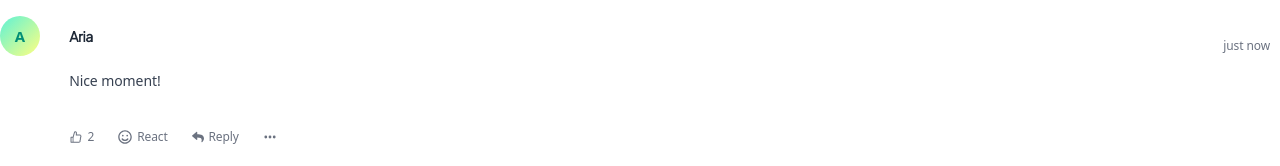
Scenario: CommentItem › likes the comment and reflects the server's count
Click the button with test id "comment-like" at (82, 136), box [59, 124, 104, 149]
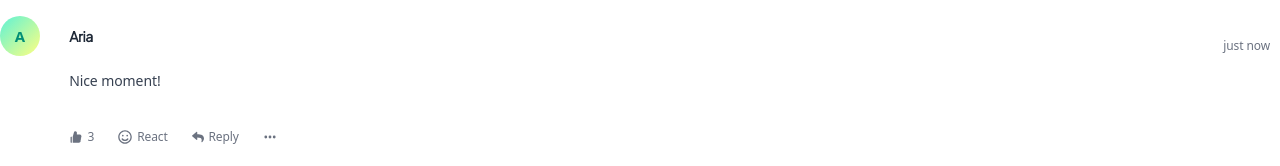
Result: the button with test id "comment-like" reads "3" at [59, 124, 104, 149]
